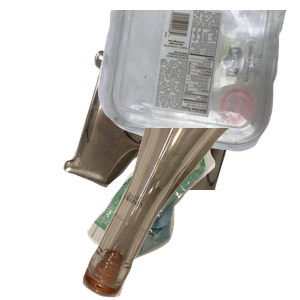glass: (80, 128, 300, 300)
metal: (60, 47, 300, 227)
plastic: (95, 10, 300, 154)
trash: (84, 133, 292, 300)
